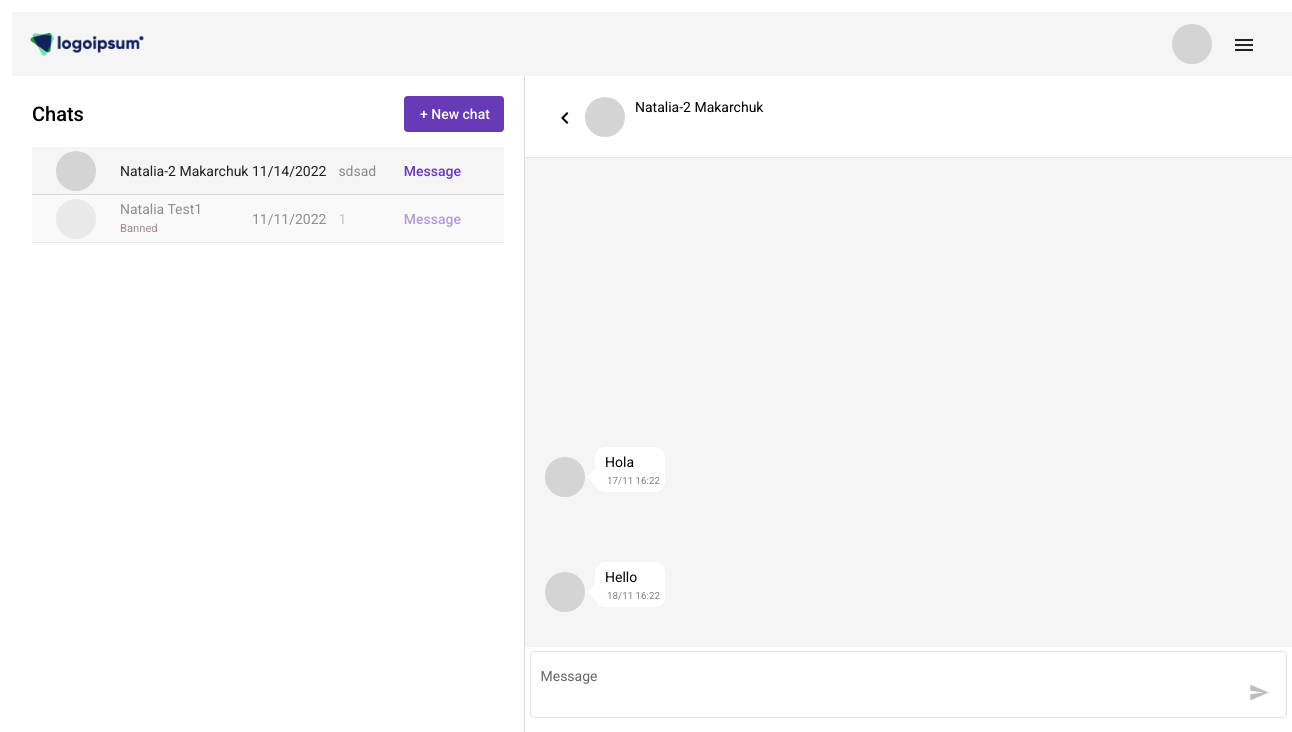
Test case: Chats › Send button should be enabled with text
Type "Hello" into the text box labelled "Message" at (892, 688), box [541,670,1242,706]
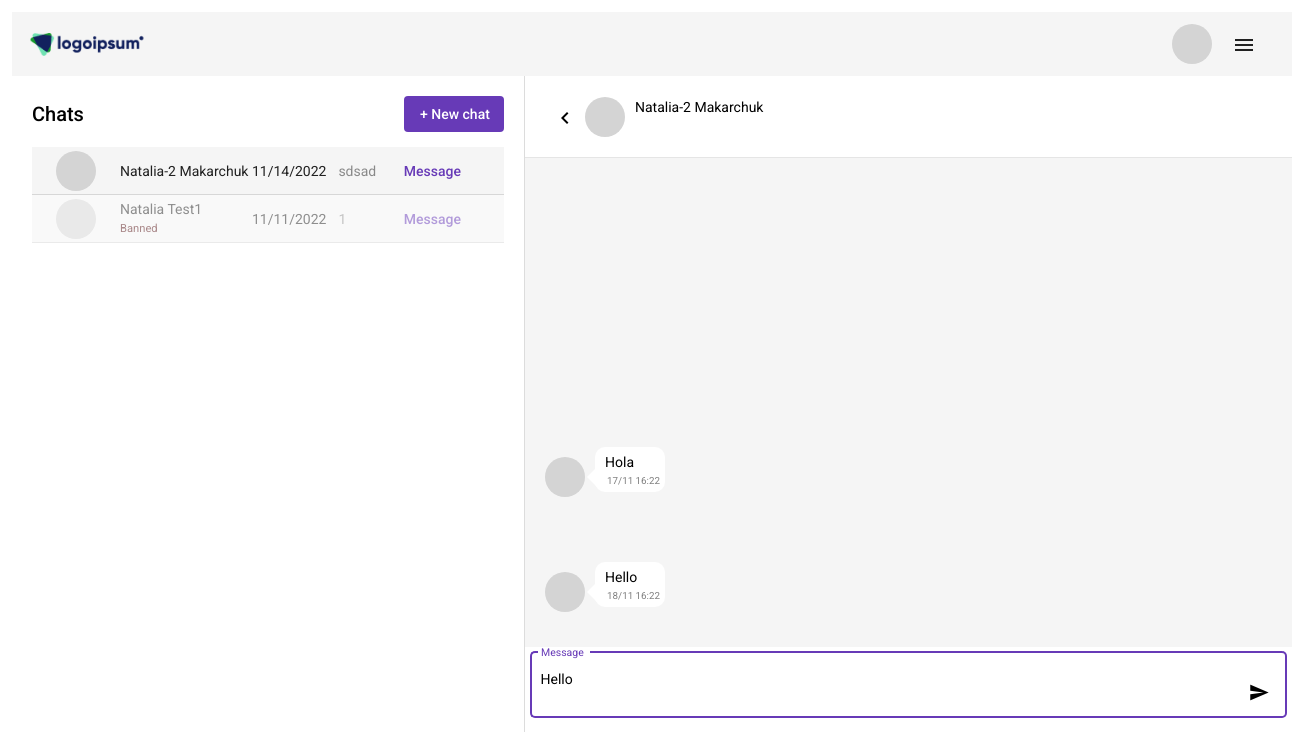
Now the button named "Send" is enabled, box [1242,676,1277,711]
